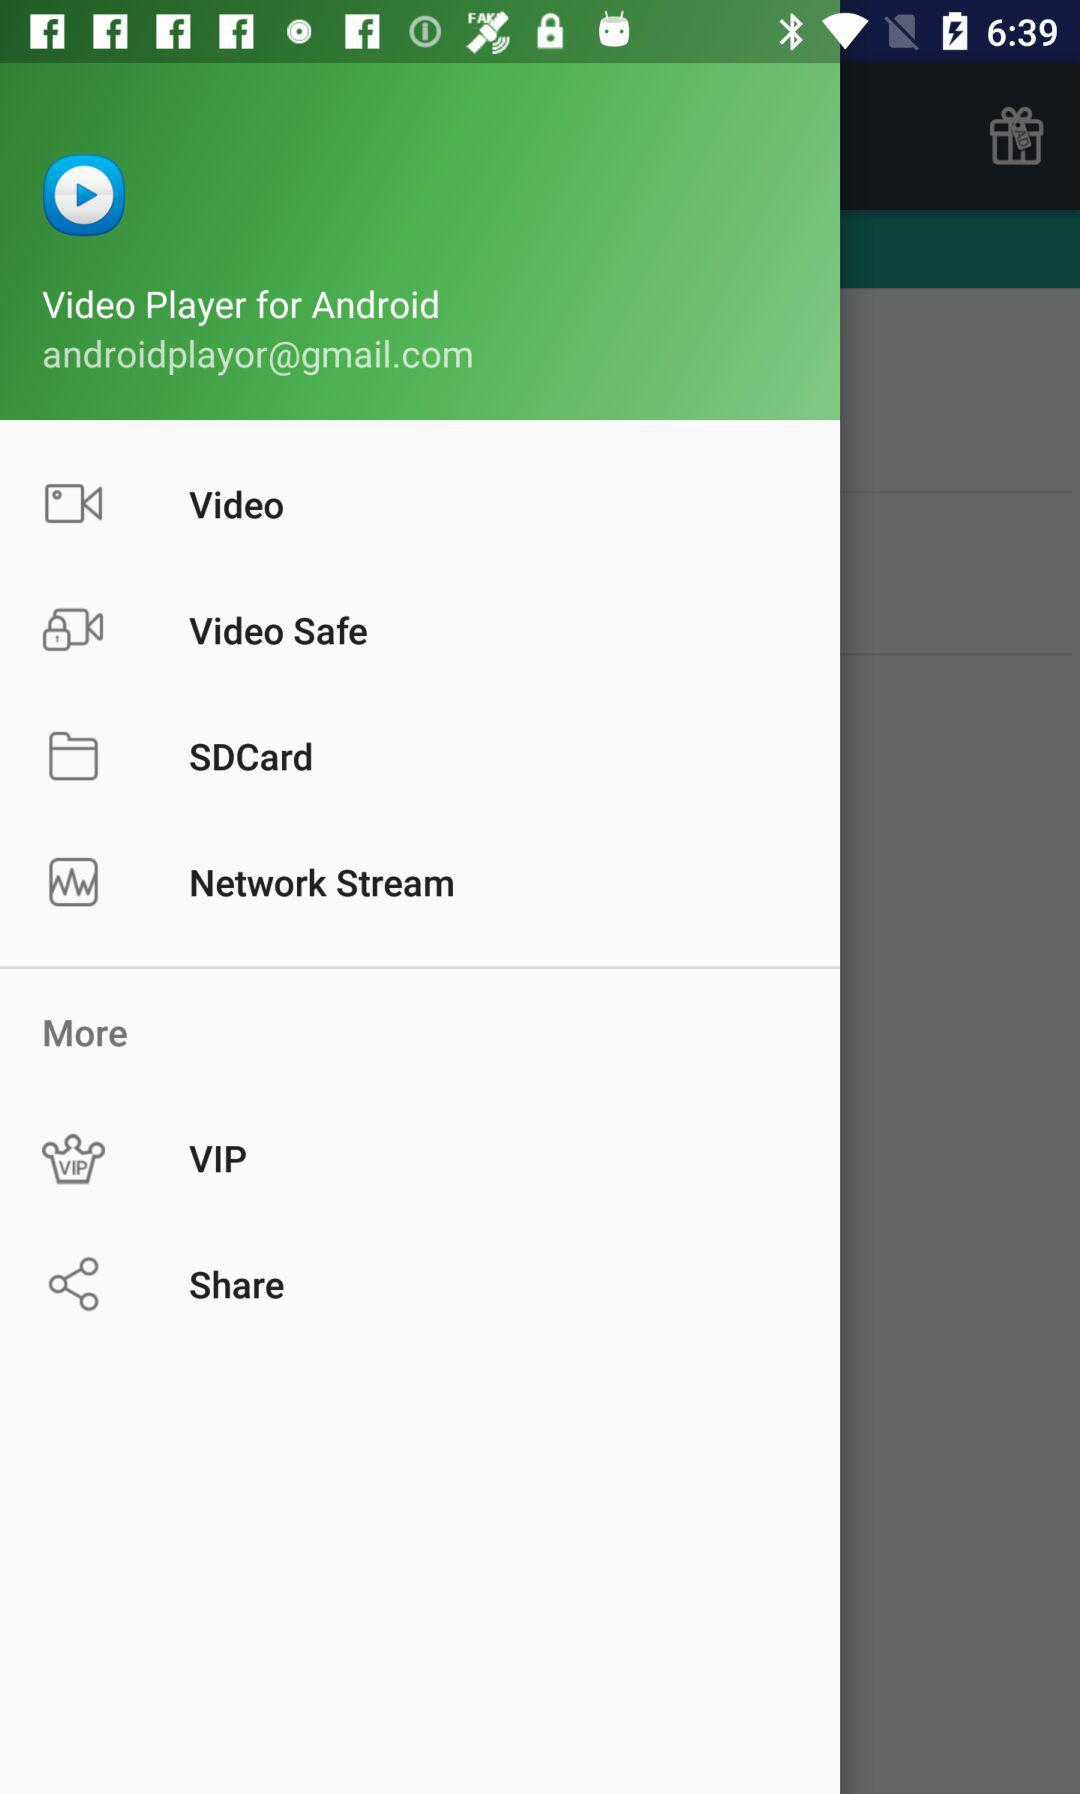Drawer: (1, 64, 839, 1794)
Icon: (44, 155, 126, 238), (47, 1256, 100, 1312), (44, 607, 106, 654), (49, 730, 100, 782)
Image: (42, 1133, 108, 1187), (49, 857, 100, 909), (45, 484, 105, 525)
Text: (44, 337, 473, 378), (42, 290, 439, 328), (191, 868, 455, 898), (190, 616, 368, 646), (190, 742, 313, 771), (190, 491, 284, 522), (190, 1270, 284, 1299), (44, 1020, 128, 1048), (190, 1146, 249, 1174)
UpperTaskBar: (1, 1, 1080, 64)
